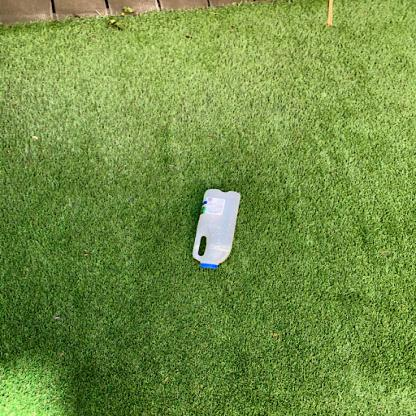trash: (187, 189, 241, 270)
